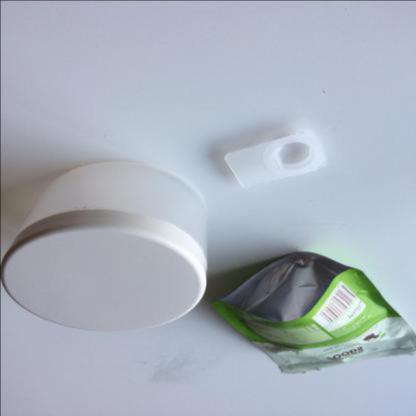Plastic bag - wrapper: (211, 252, 416, 374)
Plastic container: (0, 161, 208, 331), (224, 130, 329, 188)
